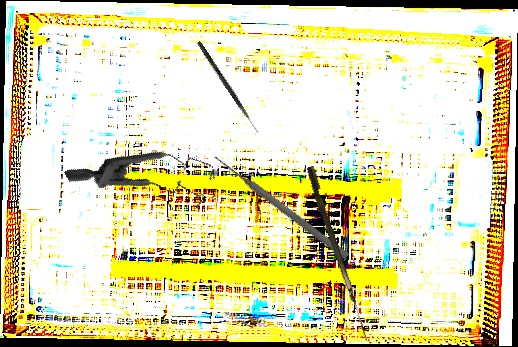Hook Surgical: (303, 165, 376, 342), (195, 40, 262, 135)
Pusher: (211, 152, 351, 261)
Speculum: (64, 108, 226, 256)
